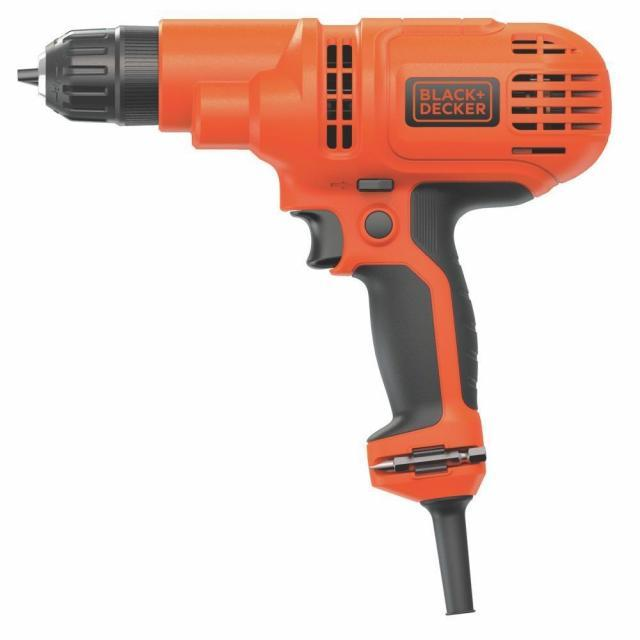drill: (16, 17, 614, 617)
